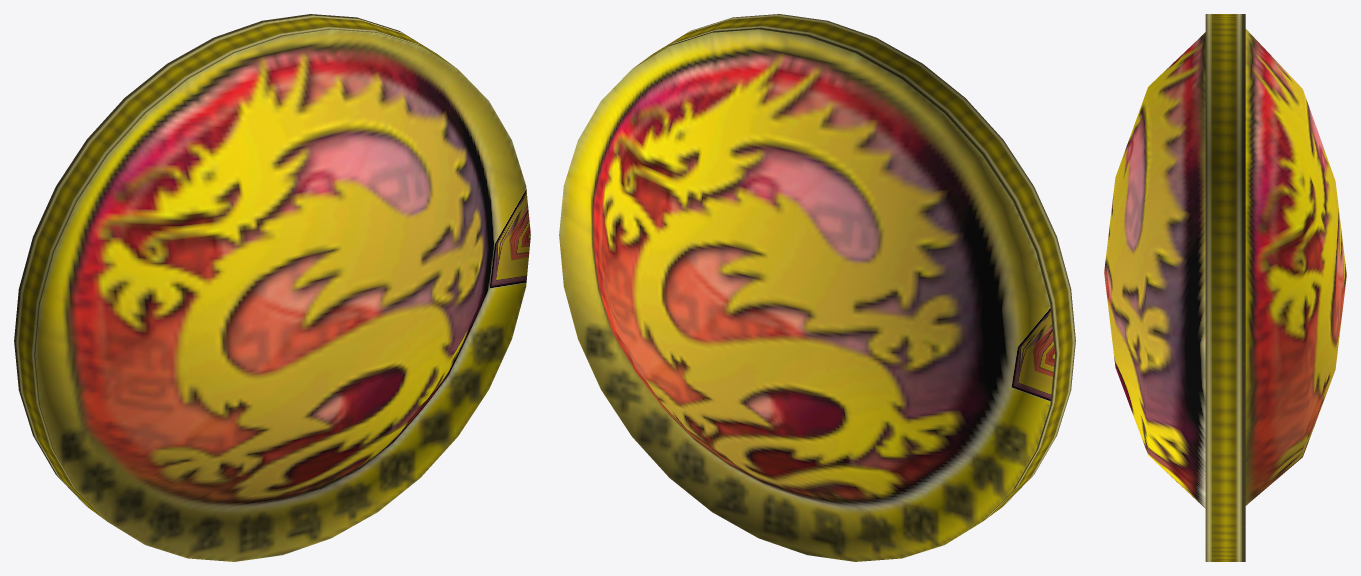
The model's file is ICON1.ICO.obj.
3 views of the same model, side by side, from view 1: azimuth 30°, elevation 25°; view 2: azimuth 150°, elevation 25°; view 3: azimuth 270°, elevation 25° (orthographic). The views are drawn at different scales.
Size of the model in its own units: 3.66 by 3.66 by 1.62.
Materials: 1 (1 with a texture image).
